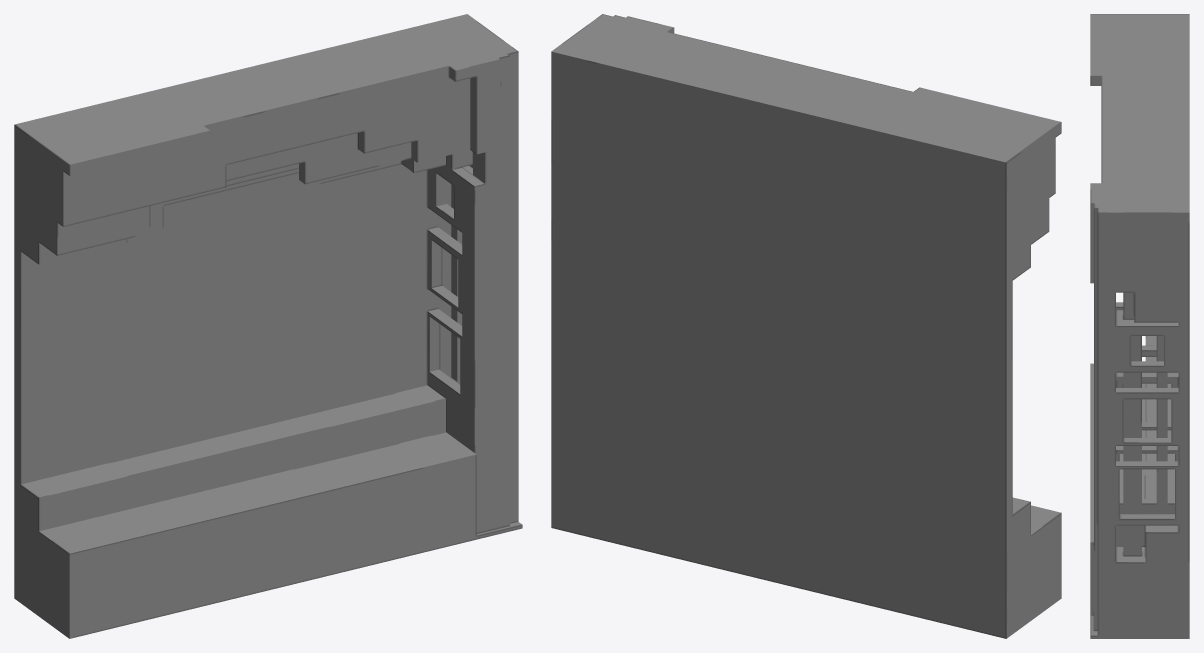
Rendered from WallCornerEntranceLeft.fbx.
3 views of the same model, side by side, from view 1: azimuth 30°, elevation 25°; view 2: azimuth 150°, elevation 25°; view 3: azimuth 270°, elevation 25° (orthographic). The views are drawn at different scales.
Visible parts, largest first — view 1: WallCornerEntranceLeft.001; view 2: WallCornerEntranceLeft.001; view 3: WallCornerEntranceLeft.001.
Boxes of the visible parts, bbox=[...] form: WallCornerEntranceLeft.001: bbox=[14, 14, 522, 638]; WallCornerEntranceLeft.001: bbox=[551, 14, 1061, 638]; WallCornerEntranceLeft.001: bbox=[1090, 14, 1189, 638].
Bounding box in the file's own units: 12.8 × 12.8 × 2.7.
1 material, 1 textured.
